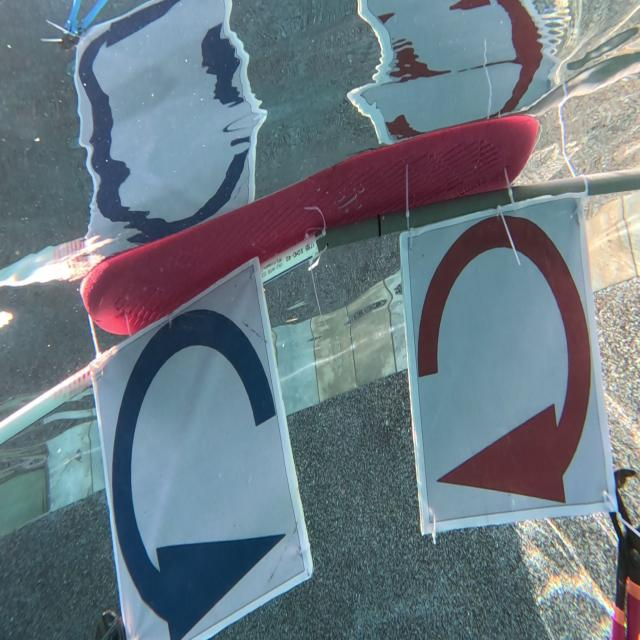blue_side: (63, 255, 321, 640)
red_side: (399, 184, 613, 539)
